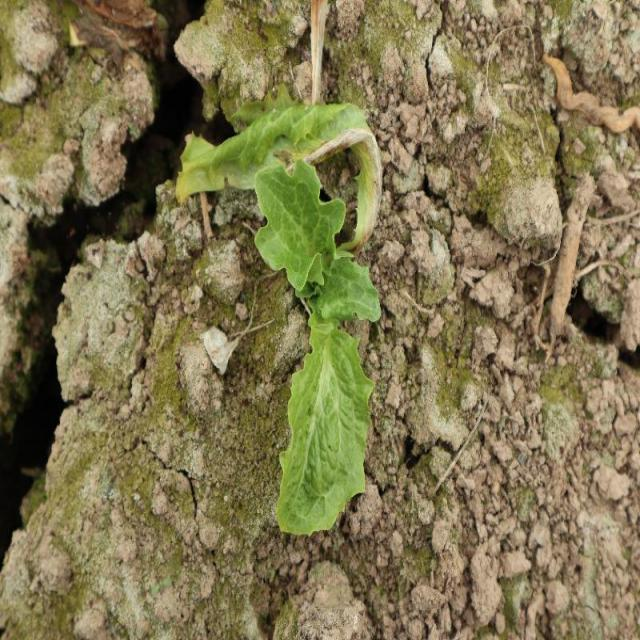crop: (176, 99, 382, 535)
